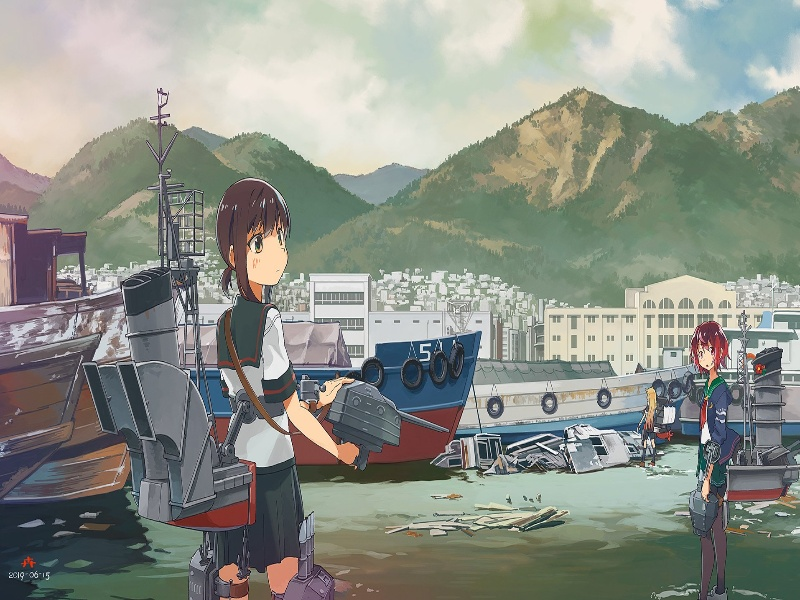dress: (183, 446, 324, 577)
person: (206, 173, 304, 316), (678, 314, 742, 394), (641, 382, 664, 420)
